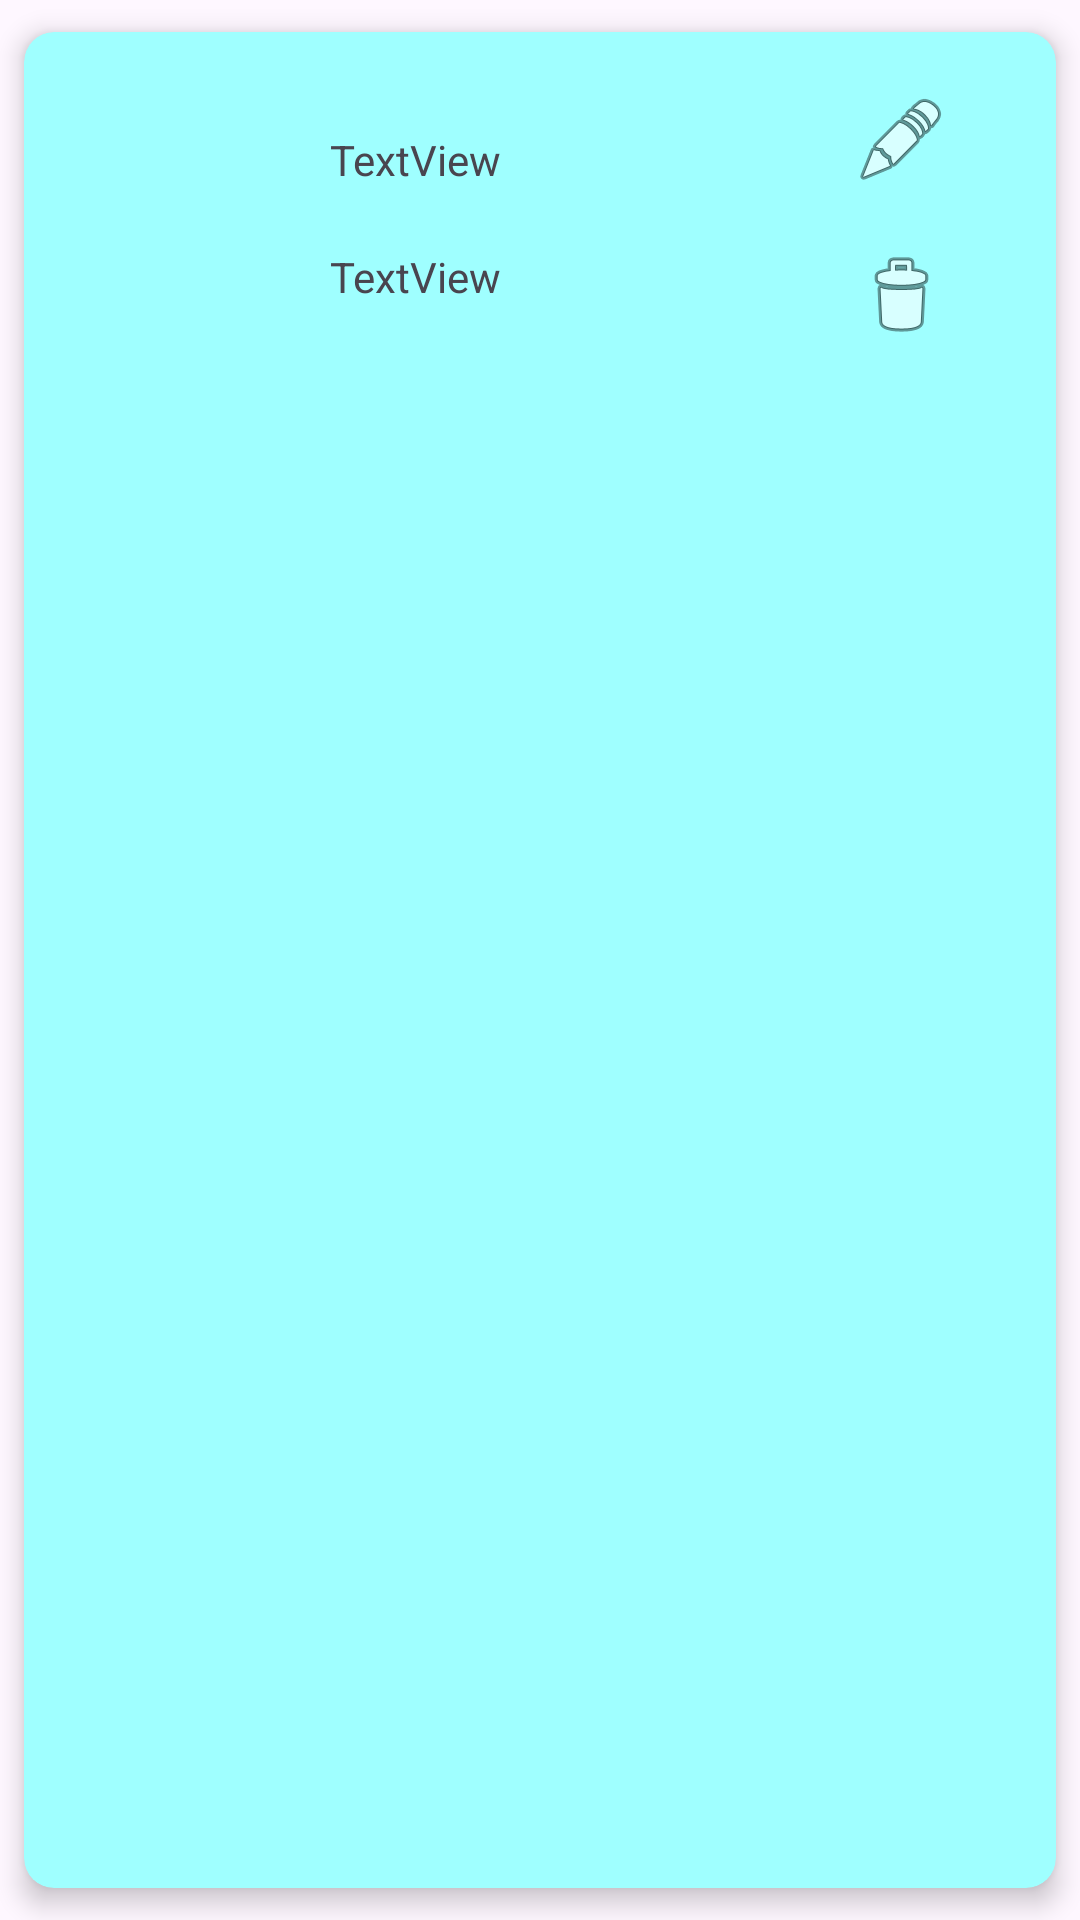

Locate icon controls on the screen. Image size 1080px x 1920px, boxes as (left=x1, top=y1, right=x2, bottom=y2).
delete: (left=874, top=257, right=929, bottom=332)
edit: (left=860, top=99, right=941, bottom=180)
